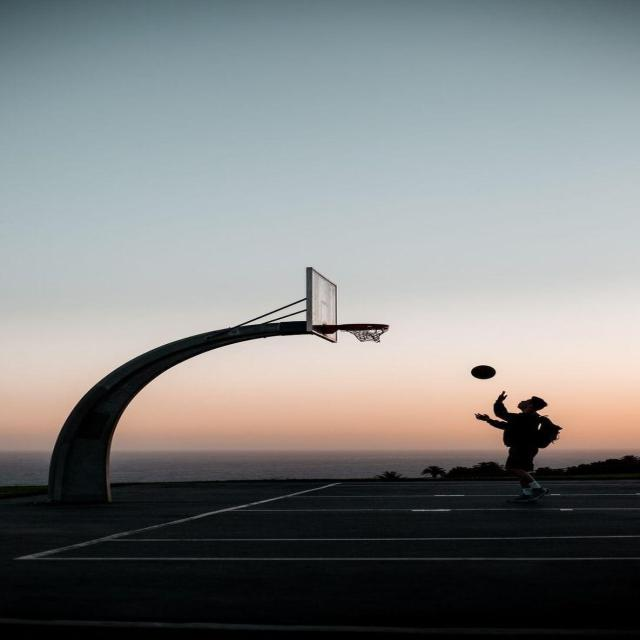hoop: (350, 319, 403, 351)
